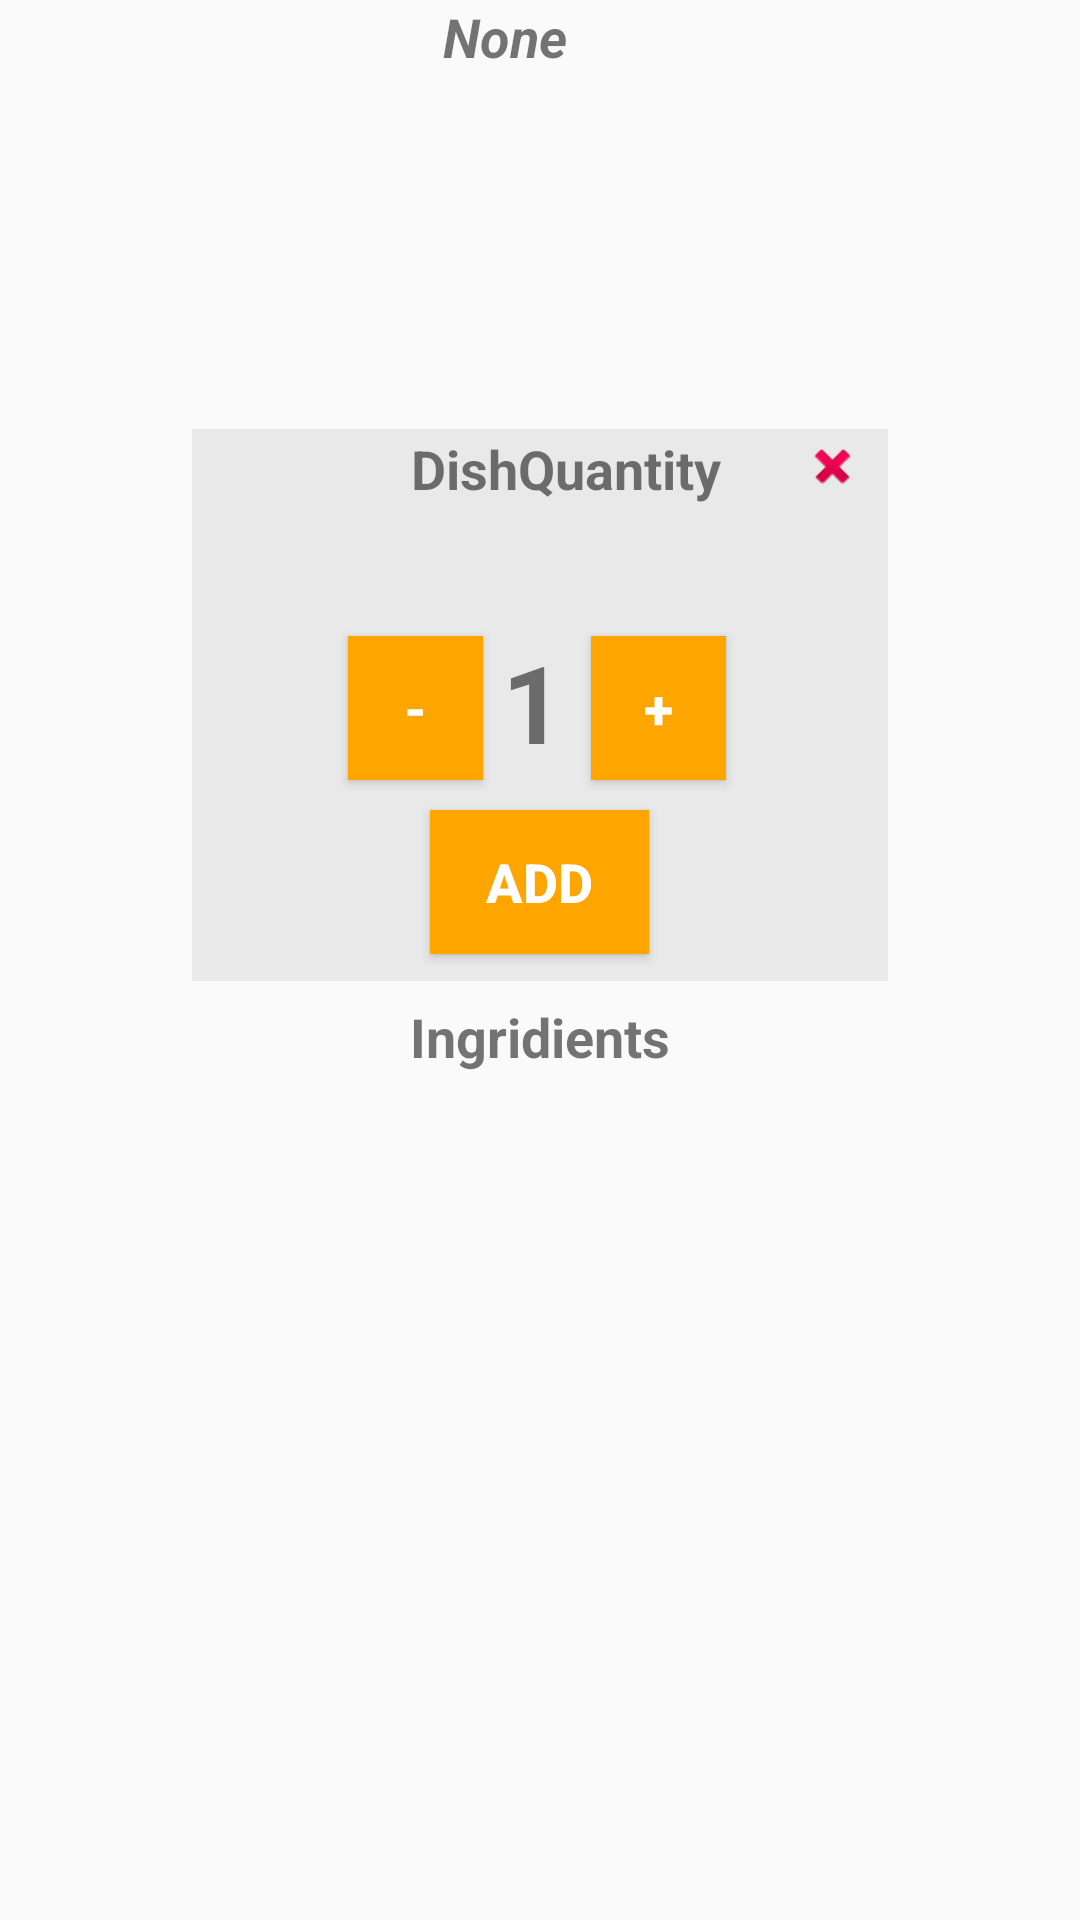

Screen size 1080 x 1920. Icon name, then its center in pixels as [x,y]:
delete: [832,466]
